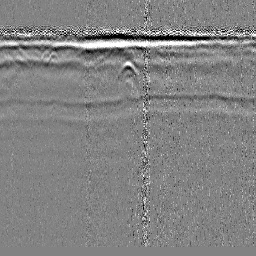cavity: (117, 59, 139, 76)
